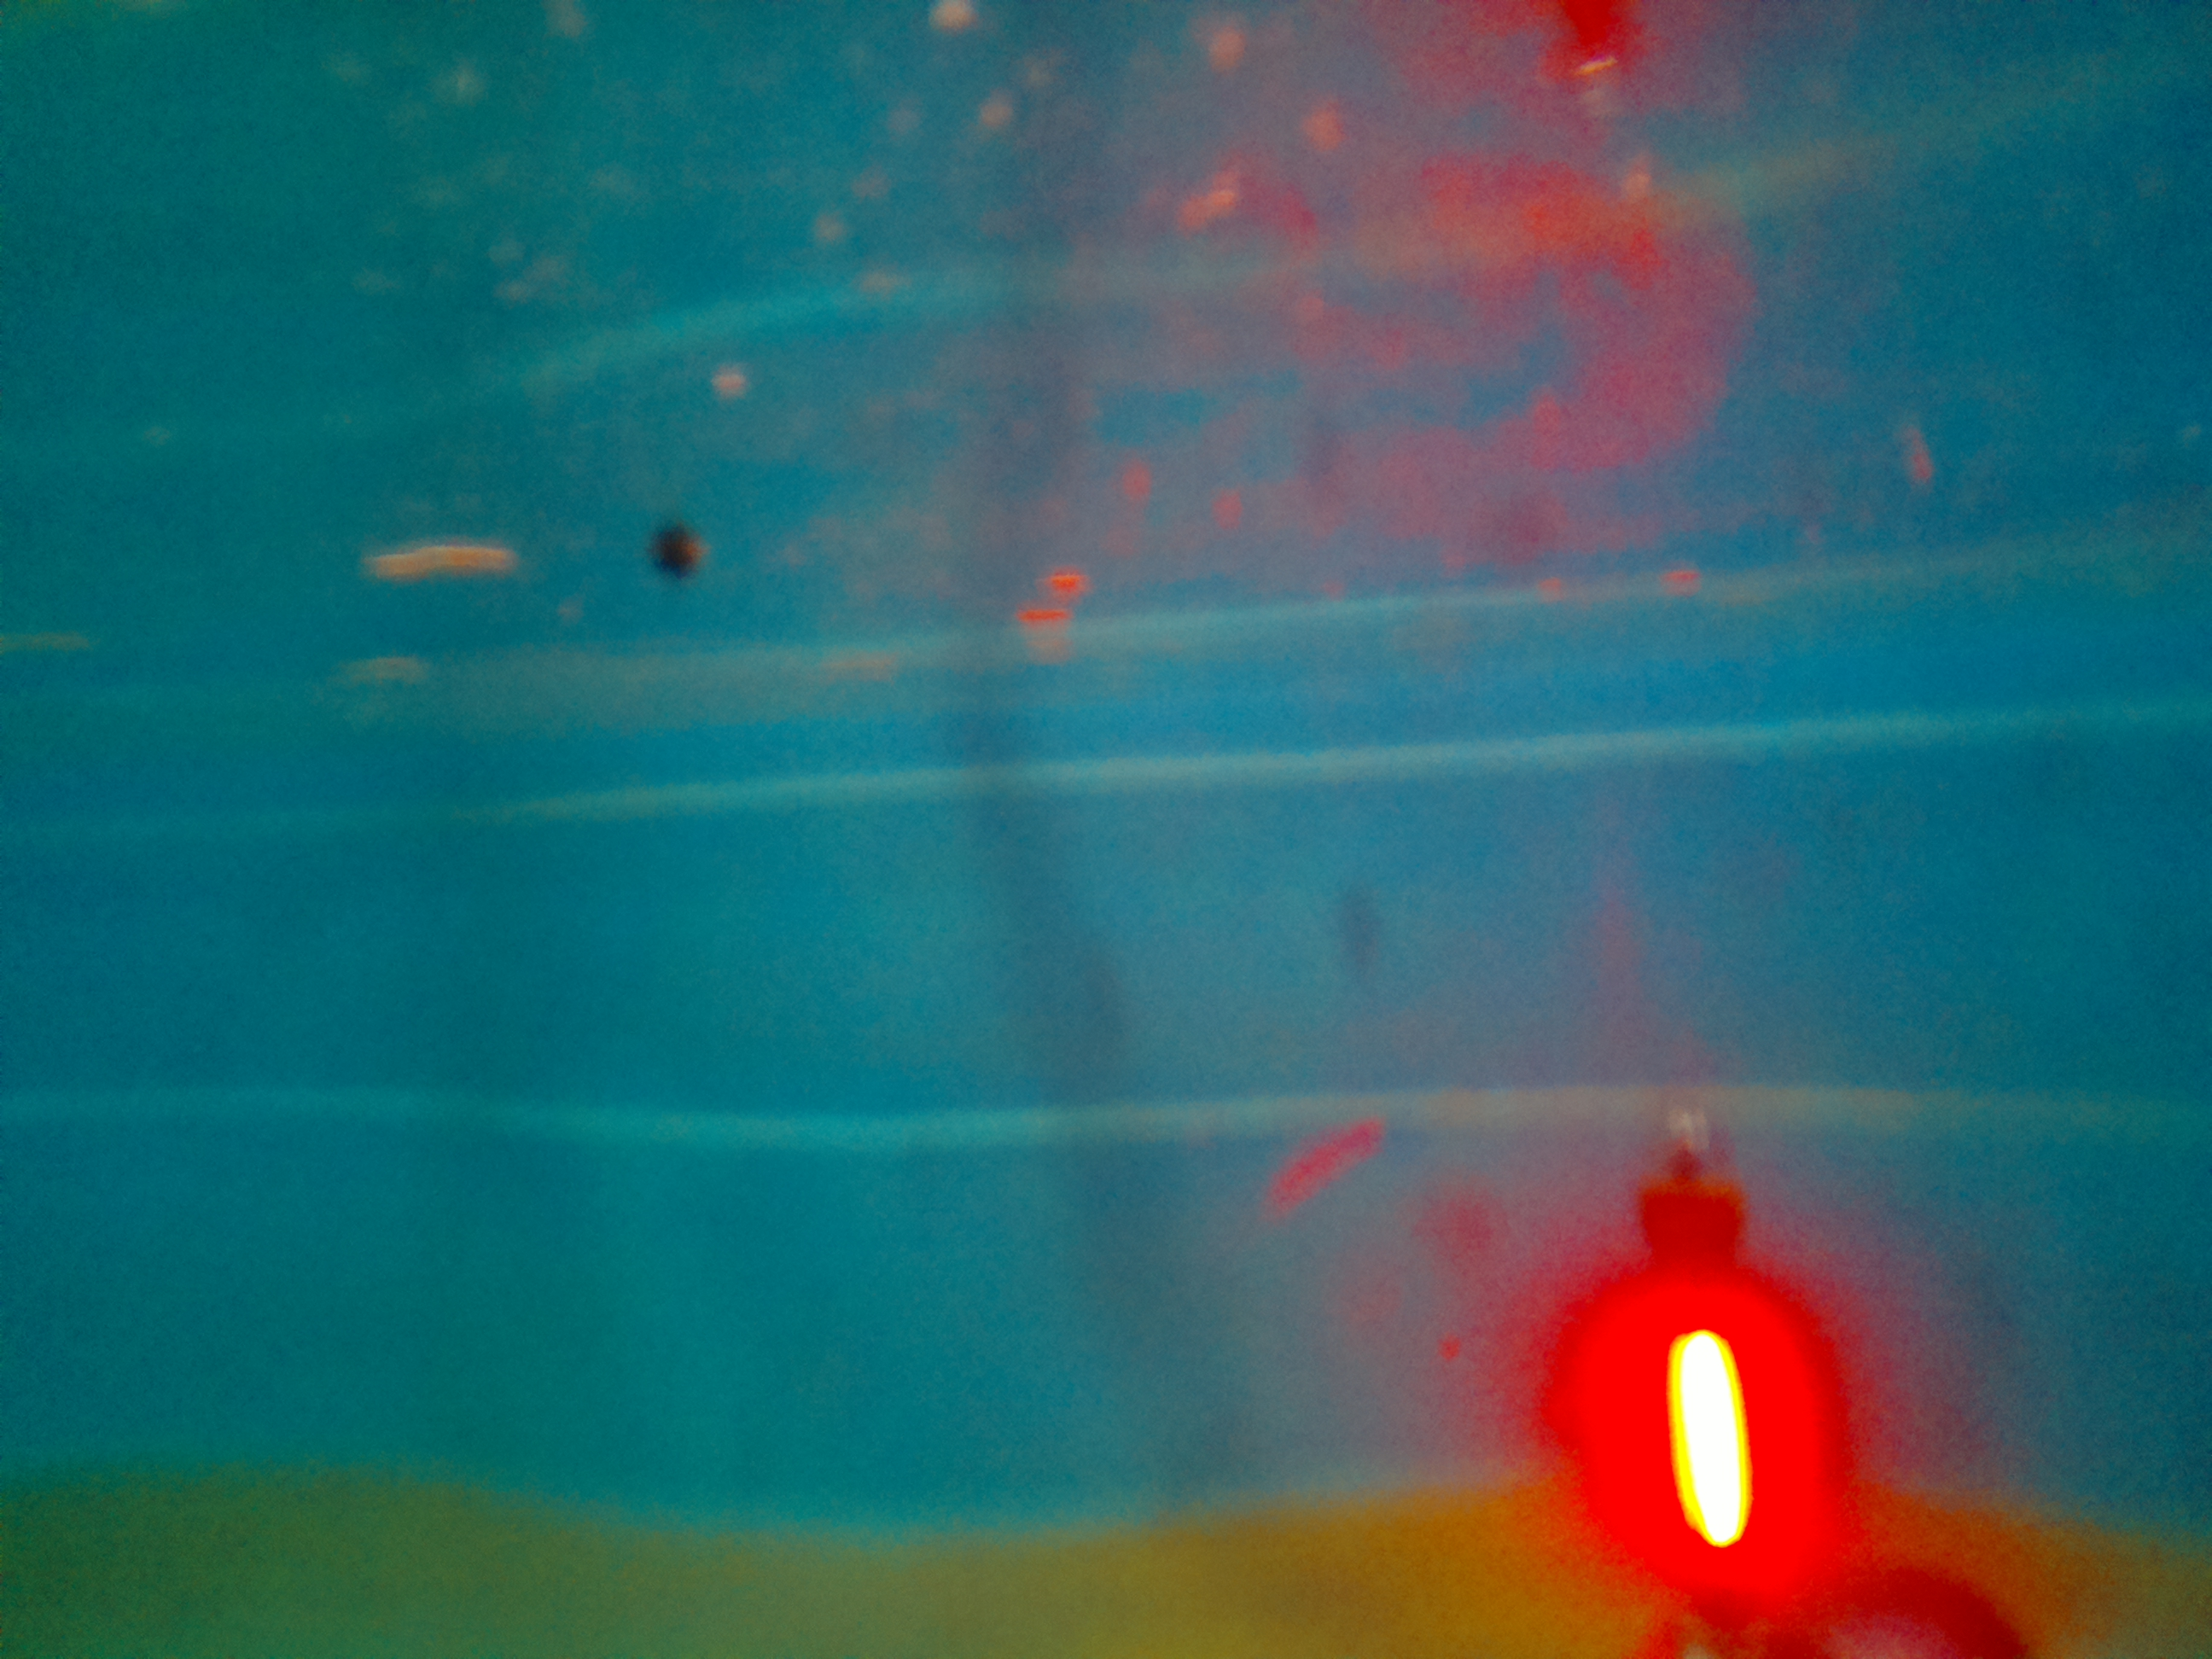red: (1639, 1185, 1775, 1628)
